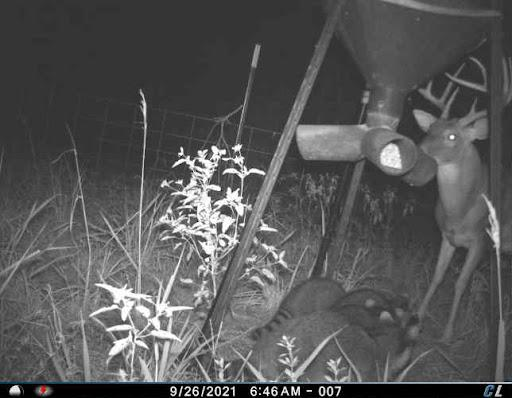Deer: (417, 42, 512, 353)
